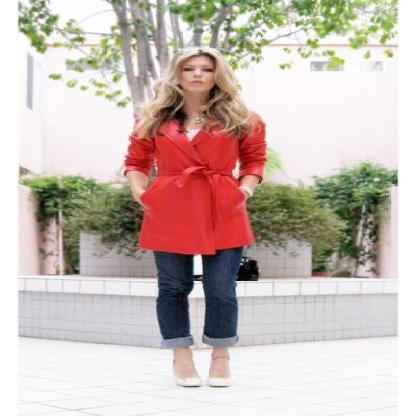jacket: (124, 121, 266, 257)
pants: (153, 246, 248, 357)
shoe: (172, 374, 224, 396)
